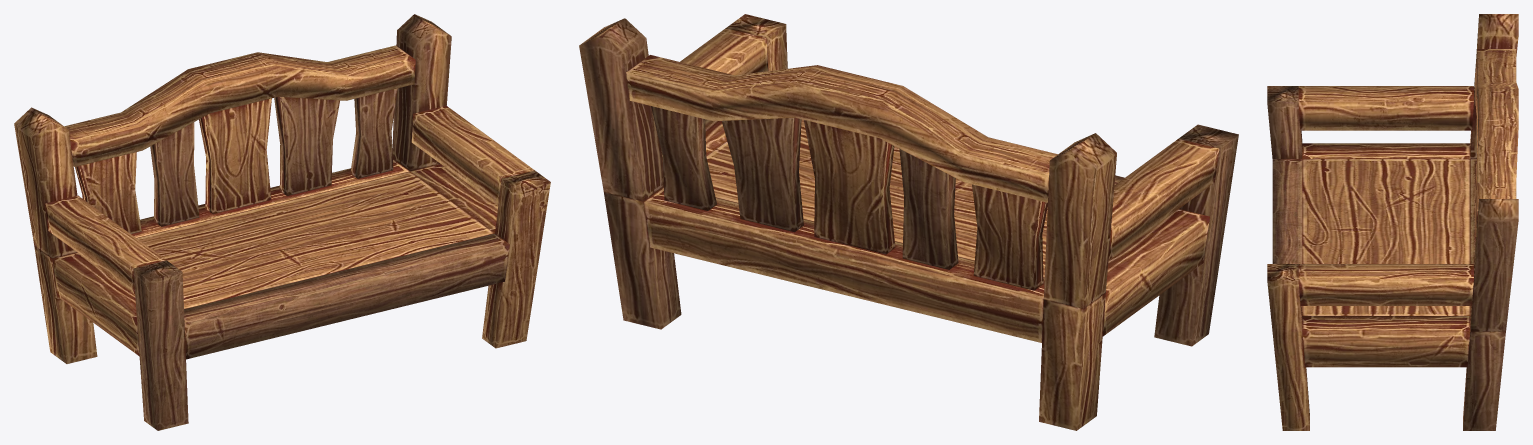
File: bench-stylized-ee9269.glb
The picture shows the model from 3 angles, left to right: view 1: azimuth 30°, elevation 25°; view 2: azimuth 150°, elevation 25°; view 3: azimuth 270°, elevation 25°; orthographic projection. The views are drawn at different scales.
Parts seen in each view (by area): view 1: defaultMaterial; view 2: defaultMaterial; view 3: defaultMaterial.
Part boxes in pixels (bbox=[...]): defaultMaterial: bbox=[14, 14, 550, 430]; defaultMaterial: bbox=[579, 14, 1238, 430]; defaultMaterial: bbox=[1267, 14, 1518, 430].
Size of the model in its own units: 2 by 1.09 by 1.05.
Materials: 1 (1 with a texture image).
